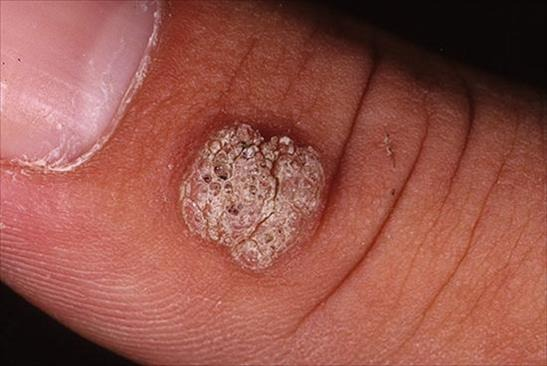Warts: (174, 108, 332, 278)
